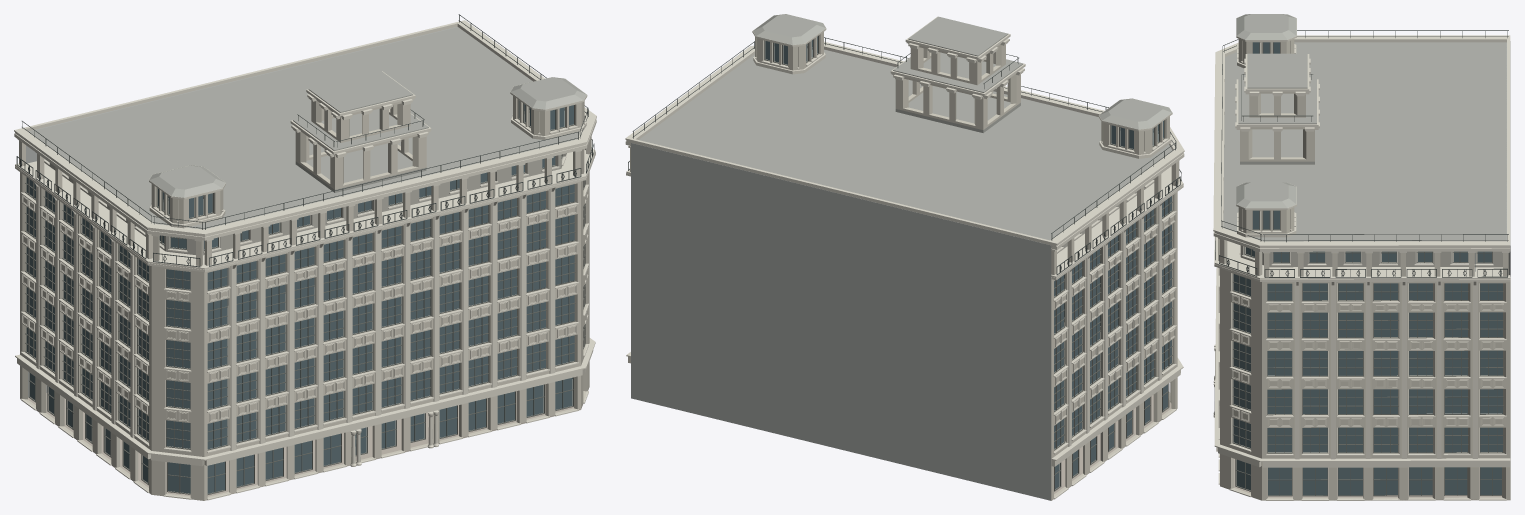
Rendered from huangpu-xinxin-company-raw.glb.
The picture shows the model from 3 angles, left to right: view 1: azimuth 30°, elevation 25°; view 2: azimuth 150°, elevation 25°; view 3: azimuth 270°, elevation 25°; orthographic projection. The views are drawn at different scales.
Visible parts, largest first — view 1: 新新公司南侧商店主楼临街外观候选; view 2: 新新公司南侧商店主楼临街外观候选; view 3: 新新公司南侧商店主楼临街外观候选.
Part boxes in pixels (bbox=[...]): 新新公司南侧商店主楼临街外观候选: bbox=[14, 14, 596, 500]; 新新公司南侧商店主楼临街外观候选: bbox=[625, 14, 1184, 500]; 新新公司南侧商店主楼临街外观候选: bbox=[1213, 14, 1510, 500].
Size of the model in its own units: 51.75 by 37.5 by 30.86.
